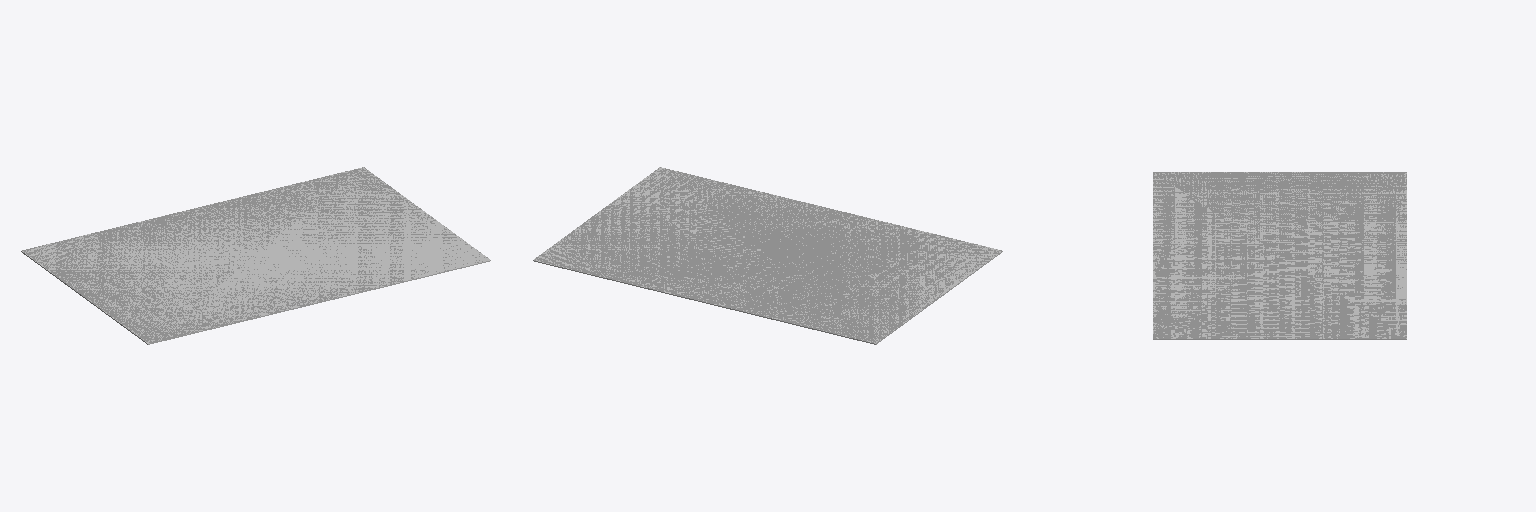
The model's file is 2_spades.obj.
3 views of the same model, side by side, from view 1: azimuth 30°, elevation 25°; view 2: azimuth 150°, elevation 25°; view 3: azimuth 270°, elevation 25° (orthographic).
Parts seen in each view (by area): view 1: Cube_Cube.001; view 2: Cube_Cube.001; view 3: Cube_Cube.001.
Part boxes in pixels (bbox=[...]): Cube_Cube.001: bbox=[21, 167, 490, 344]; Cube_Cube.001: bbox=[533, 167, 1002, 344]; Cube_Cube.001: bbox=[1153, 172, 1406, 339].
Size of the model in its own units: 0.7 by 0.002 by 0.45.